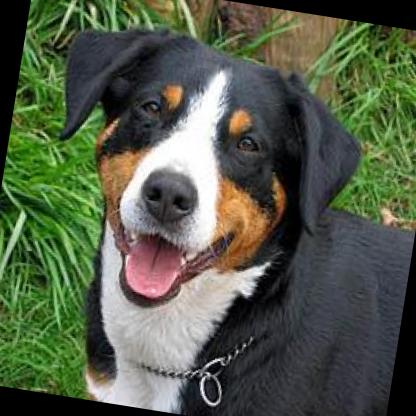EntleBucher: (10, 14, 416, 416)
